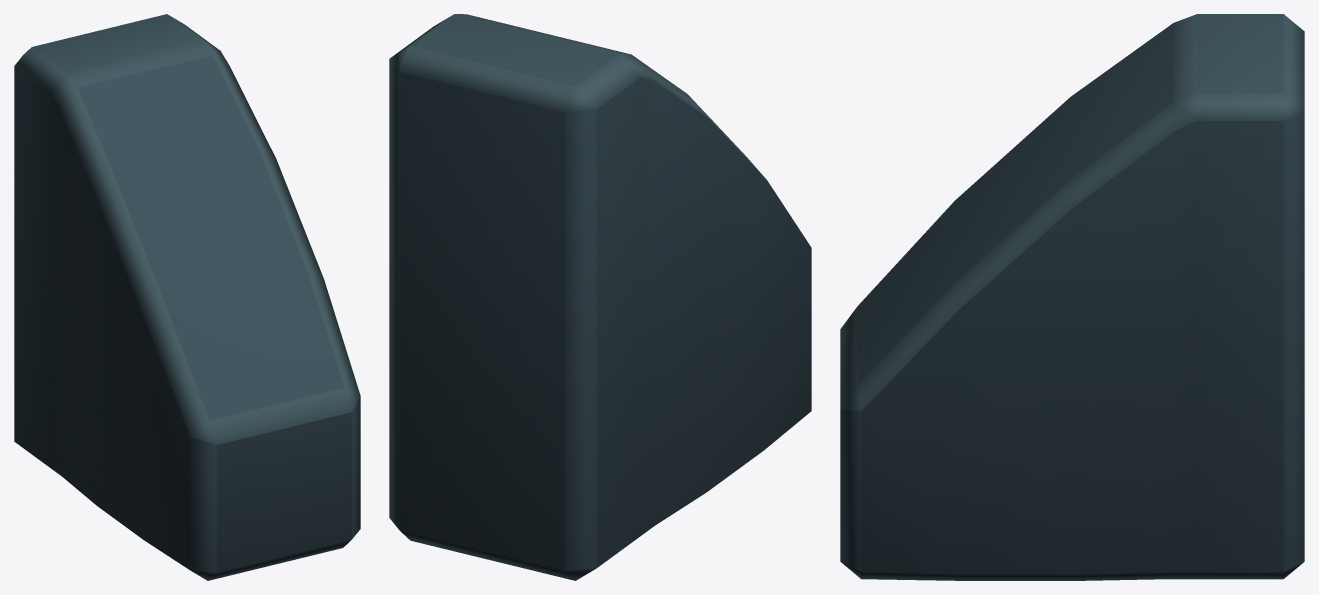
Rendered from stair_sidewall_shade_5_LOD_setup.fbx.
3 renders of one model, left to right at view 1: azimuth 30°, elevation 25°; view 2: azimuth 150°, elevation 25°; view 3: azimuth 270°, elevation 25°, orthographic. The views are drawn at different scales.
Visible parts, largest first — view 1: stair_sidewall_shade_5_LOD0; view 2: stair_sidewall_shade_5_LOD0; view 3: stair_sidewall_shade_5_LOD0.
Boxes of the visible parts, x1,y1,x2,y2 form: stair_sidewall_shade_5_LOD0: (14,14,360,580); stair_sidewall_shade_5_LOD0: (389,14,811,580); stair_sidewall_shade_5_LOD0: (840,14,1304,580).
Size of what is drawn, in the model's own units: 55.52 by 121 by 105.
